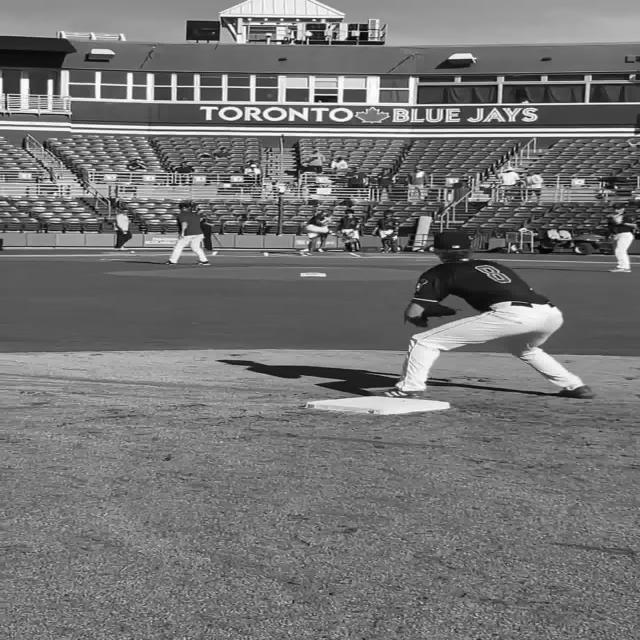base: (315, 396, 452, 412)
baseball_glove: (402, 302, 456, 328)
shoe: (380, 388, 424, 399), (559, 385, 593, 398), (606, 267, 630, 273), (196, 261, 210, 265), (164, 260, 178, 264)
